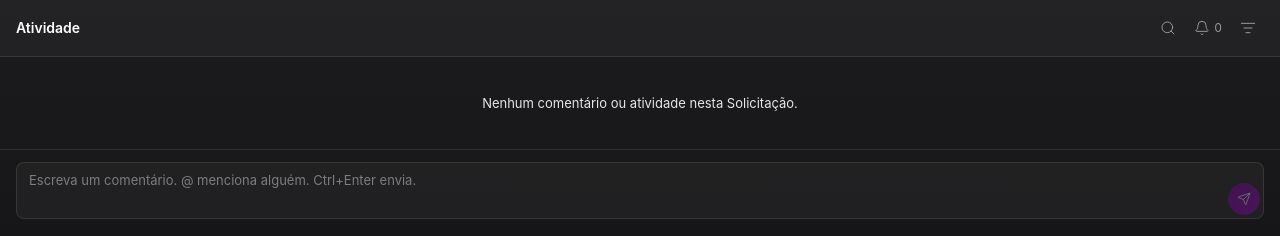
Timeline — Ctrl+Enter envia, Enter sozinho não (g) › Ctrl+Enter dispara o envio; Enter sozinho mantém o compositor parado
Type "Olá" into the text box with placeholder "Escreva um comentário. @ menciona alguém. Ctrl+Enter envia." at (640, 190), box [16,162,1264,219]
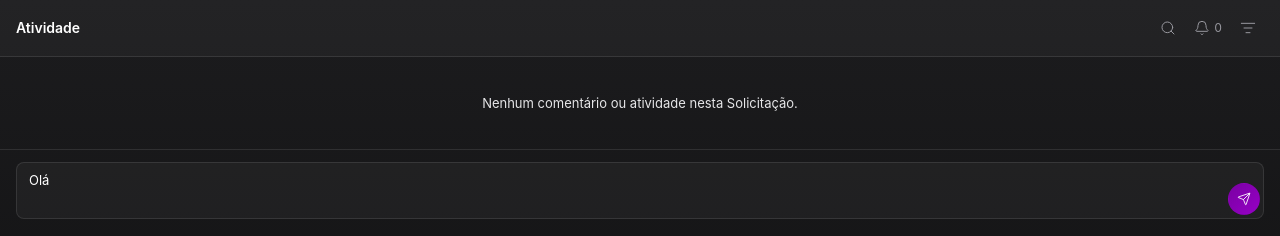
Press Enter in the text box with placeholder "Escreva um comentário. @ menciona alguém. Ctrl+Enter envia.", box [16,162,1264,219]
Check: the button named "Comentar" is shown, box [1228,183,1260,215]
Press Enter in the text box with placeholder "Escreva um comentário. @ menciona alguém. Ctrl+Enter envia.", box [16,162,1264,219]
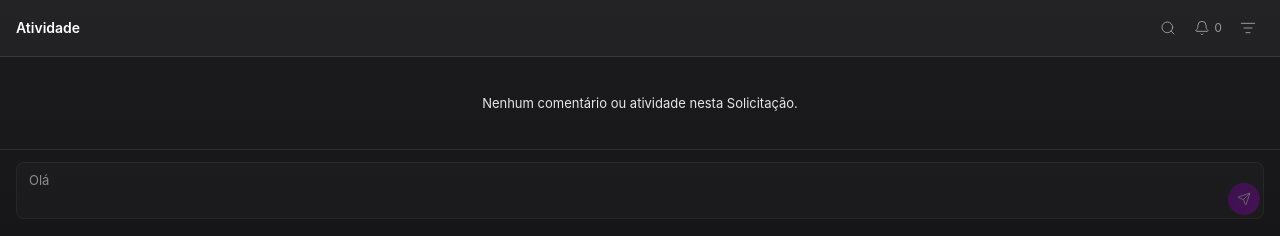
Check: the button named "Enviando…" is shown, box [1228,183,1260,215]
